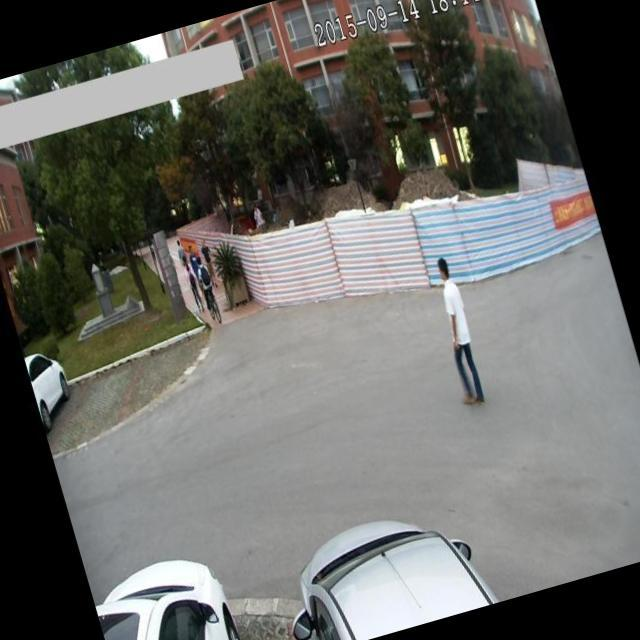person: (420, 246, 494, 413), (189, 250, 217, 300)
